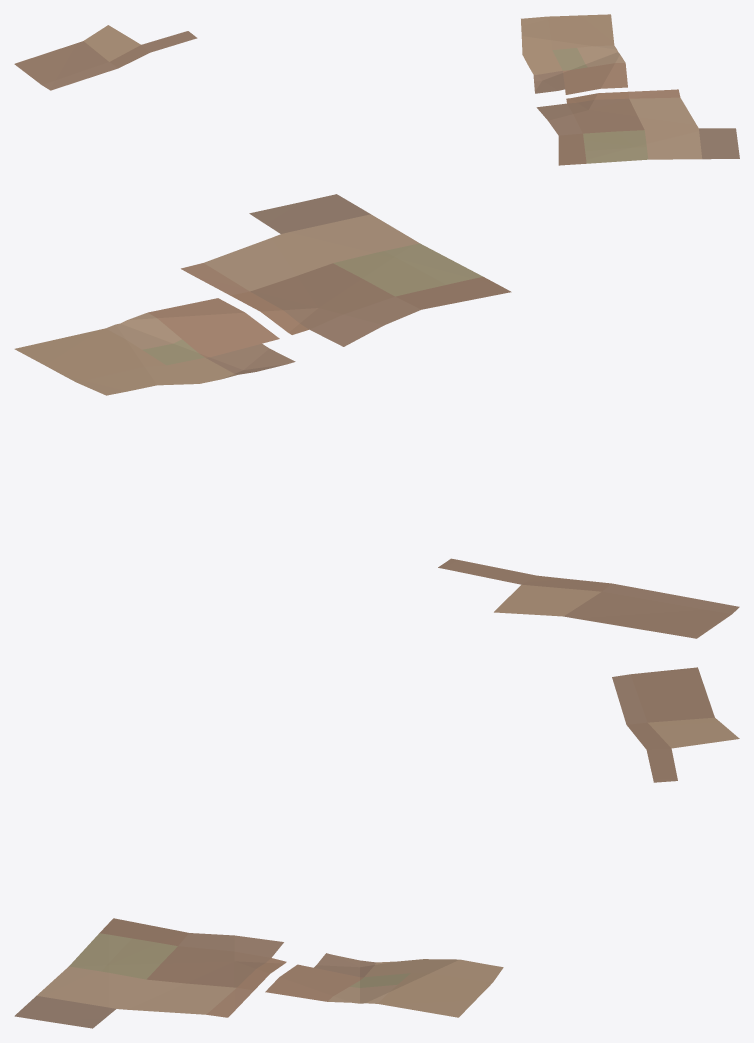
Rendered from farm_11_5_soil.glb.
3 views of the same model, one above another, from view 1: azimuth 30°, elevation 25°; view 2: azimuth 150°, elevation 25°; view 3: azimuth 270°, elevation 25° (orthographic). The views are drawn at different scales.
Parts seen in each view (by area): view 1: geometry_0; view 2: geometry_0; view 3: geometry_0.
Boxes of the visible parts, <box> form: geometry_0: <box>14,14,739,165</box>; geometry_0: <box>14,194,739,638</box>; geometry_0: <box>14,667,739,1028</box>.
Size of the model in its own units: 508 by 25.65 by 463.
